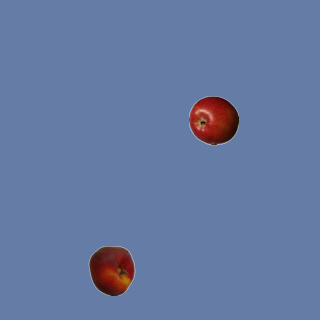Apple Braeburn: (188, 95, 238, 145)
Nectarine Flat: (86, 245, 136, 295)
